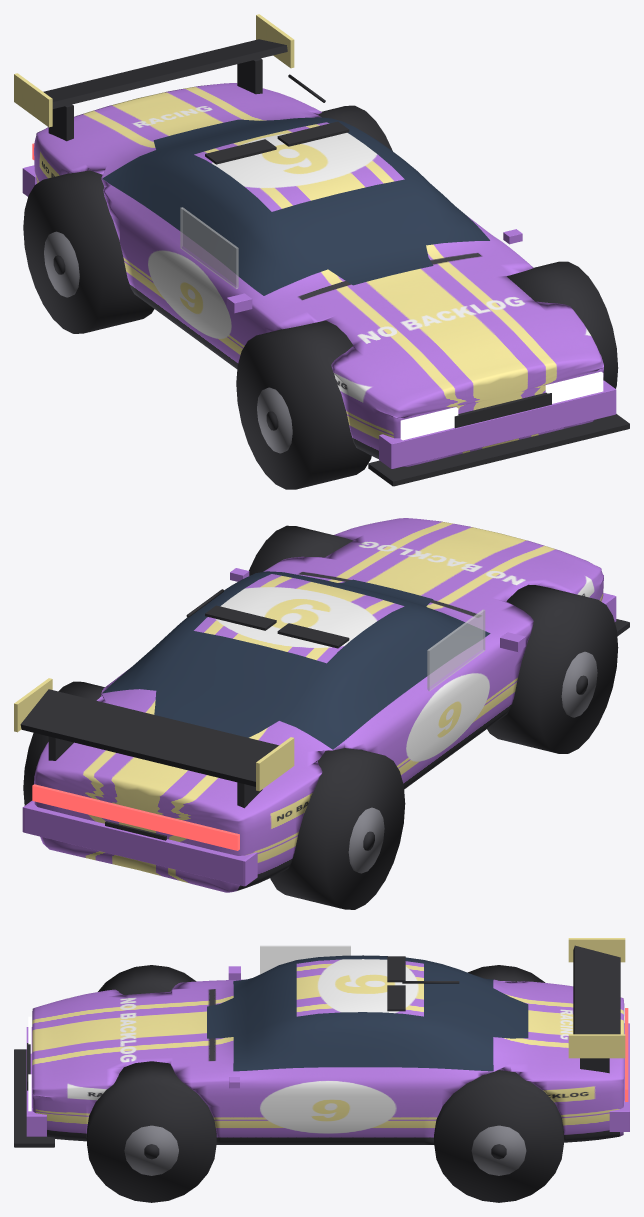
File: car_5.glb
3 renders of one model, top to bottom at view 1: azimuth 30°, elevation 25°; view 2: azimuth 150°, elevation 25°; view 3: azimuth 270°, elevation 25°, orthographic. The views are drawn at different scales.
Parts seen in each view (by area): view 1: body, cutter, cutter.002, bumperF, spoiler, cutter.001, splitter, net, dish, dish.002, grille, endplate (+8 smaller); view 2: body, cutter, cutter.002, spoiler, bumperR, tail, net, cutter.001, dish, dish.002, cutter.003, endplate (+3 smaller); view 3: body, cutter.001, cutter.003, spoiler, dish.003, dish.001, cutter, splitter, net, endplate.001, endplate, cutter.002 (+5 smaller).
Boxes of the visible parts, <box> form: body: <box>34,83,603,466</box>; cutter: <box>236,320,371,489</box>; cutter.002: <box>23,170,154,333</box>; bumperF: <box>379,380,616,468</box>; spoiler: <box>43,39,287,108</box>; cutter.001: <box>507,261,618,388</box>; splitter: <box>368,414,629,486</box>; net: <box>180,207,238,288</box>; dish: <box>257,387,292,453</box>; dish.002: <box>44,231,79,297</box>; grille: <box>454,392,551,428</box>; endplate: <box>14,73,52,127</box>; body: <box>34,518,603,892</box>; cutter: <box>487,584,618,753</box>; cutter.002: <box>270,748,405,909</box>; spoiler: <box>20,689,278,786</box>; bumperR: <box>22,801,257,886</box>; tail: <box>32,784,239,850</box>; net: <box>427,609,485,691</box>; cutter.001: <box>249,525,352,575</box>; dish: <box>561,651,597,717</box>; dish.002: <box>348,807,384,873</box>; cutter.003: <box>23,681,104,805</box>; endplate: <box>256,737,294,791</box>; body: <box>32,955,624,1144</box>; cutter.001: <box>87,1061,216,1202</box>; cutter.003: <box>434,1070,563,1202</box>; spoiler: <box>573,945,620,1034</box>; dish.003: <box>471,1125,526,1175</box>; dish.001: <box>124,1125,178,1175</box>; cutter: <box>98,965,196,995</box>; splitter: <box>14,1049,54,1147</box>; net: <box>260,945,350,974</box>; endplate.001: <box>568,1034,625,1058</box>; endplate: <box>568,938,625,962</box>; cutter.002: <box>468,965,545,982</box>.
Bounding box in the file's own units: 2.58 × 1.76 × 5.41.
11 materials, 1 textured.
